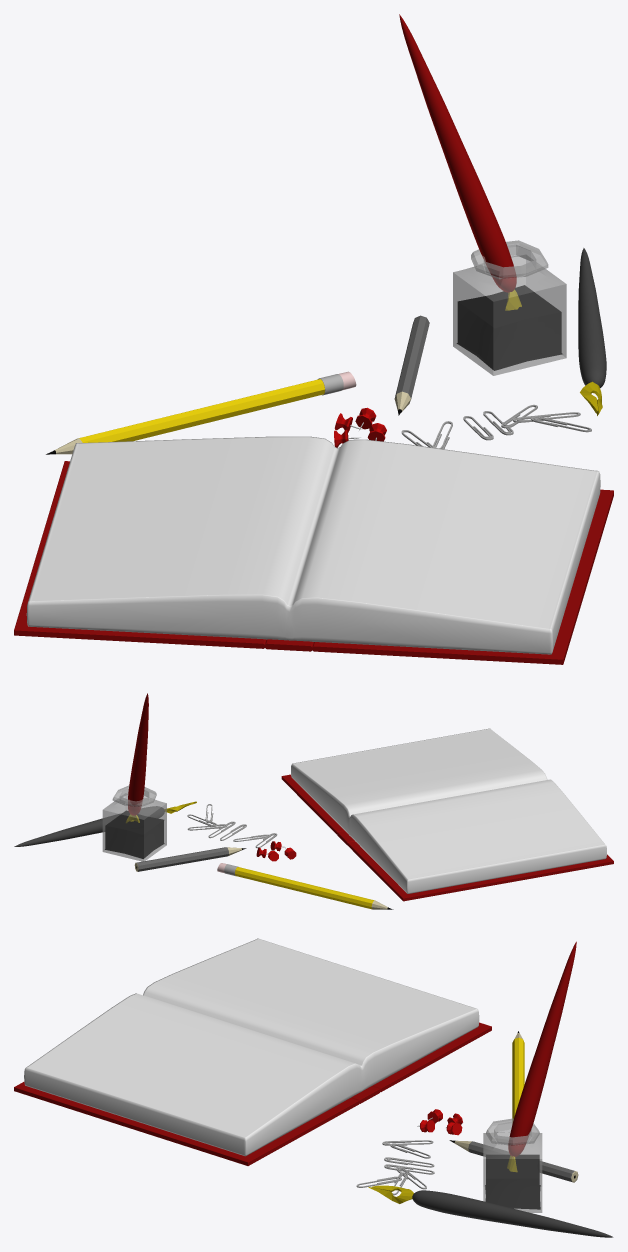
The model's file is some stationary items.fbx.
The picture shows the model from 3 angles, top to bottom: view 1: azimuth 30°, elevation 25°; view 2: azimuth 150°, elevation 25°; view 3: azimuth 270°, elevation 25°; orthographic projection. The views are drawn at different scales.
Parts seen in each view (by area): view 1: open_book, inkwell, point_pen_02, hb2pencil, point_pen_01, blackb6_pencil; view 2: open_book, inkwell, hb2pencil, point_pen_02, point_pen_01, blackb6_pencil; view 3: open_book, inkwell, point_pen_01, point_pen_02, blackb6_pencil, hb2pencil.
Part boxes in pixels (x1,y1,x2,y2): open_book: [14, 436, 613, 664]; inkwell: [453, 240, 566, 375]; point_pen_02: [399, 14, 521, 310]; hb2pencil: [46, 371, 356, 454]; point_pen_01: [578, 248, 606, 415]; blackb6_pencil: [394, 315, 429, 415]; open_book: [281, 728, 613, 901]; inkwell: [102, 785, 166, 861]; hb2pencil: [217, 863, 393, 909]; point_pen_02: [126, 693, 148, 823]; point_pen_01: [14, 801, 196, 846]; blackb6_pencil: [134, 847, 246, 871]; open_book: [14, 938, 491, 1165]; inkwell: [483, 1118, 542, 1212]; point_pen_01: [368, 1185, 613, 1237]; point_pen_02: [507, 941, 576, 1172]; blackb6_pencil: [449, 1140, 578, 1182]; hb2pencil: [512, 1031, 524, 1122].
Size of the model in its own units: 35.04 by 13.35 by 30.68.
